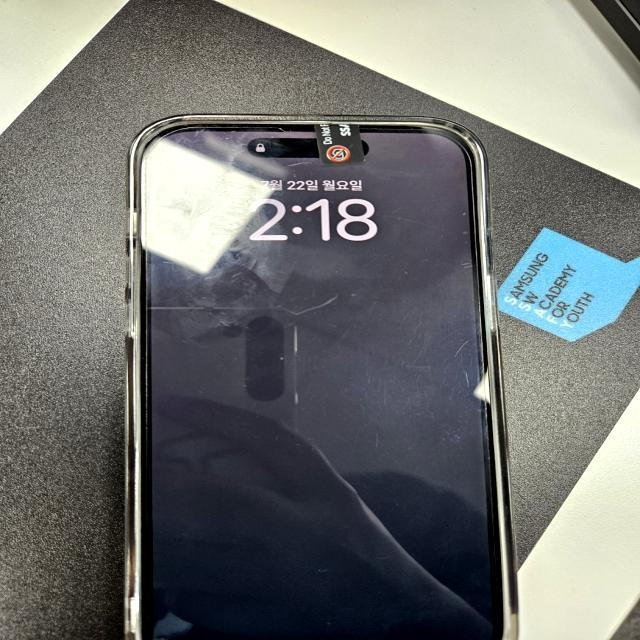phone: (120, 113, 524, 640)
sticker: (317, 116, 368, 167)
